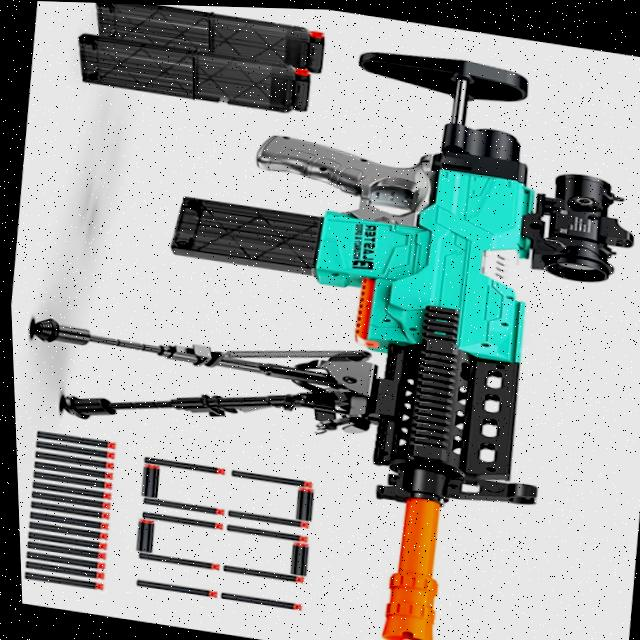firearm: (120, 16, 640, 640)
